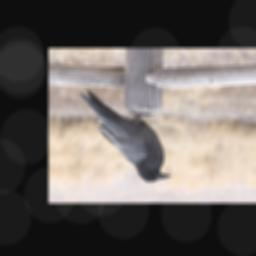Crow: (78, 88, 172, 183)
